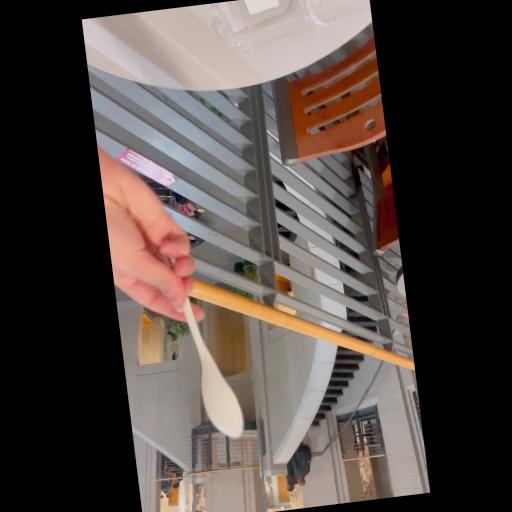utensil: (168, 262, 250, 448)
